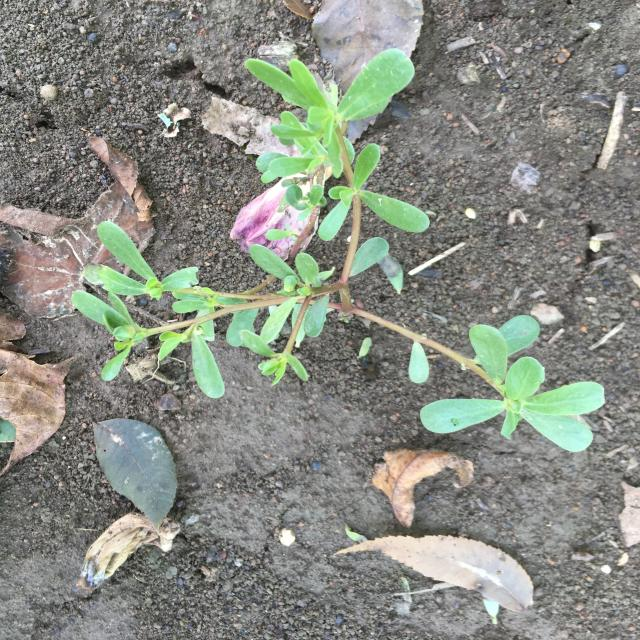Purslane: (70, 48, 606, 452)
